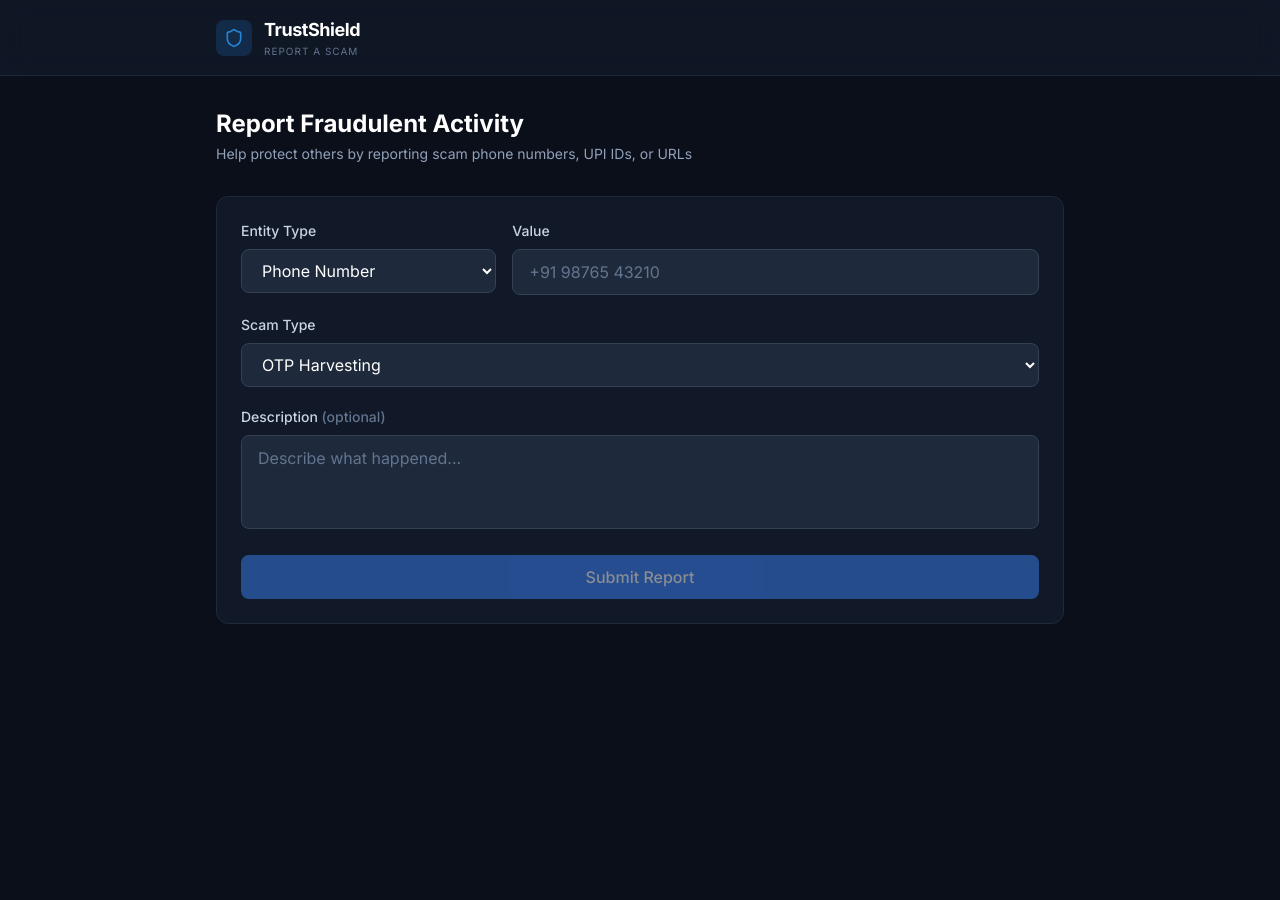
it: Report Page › shows rate limit message on 429 error
Type "1234567890" into the field with placeholder "+91 98765 43210" at (776, 272), box [512, 249, 1039, 295]
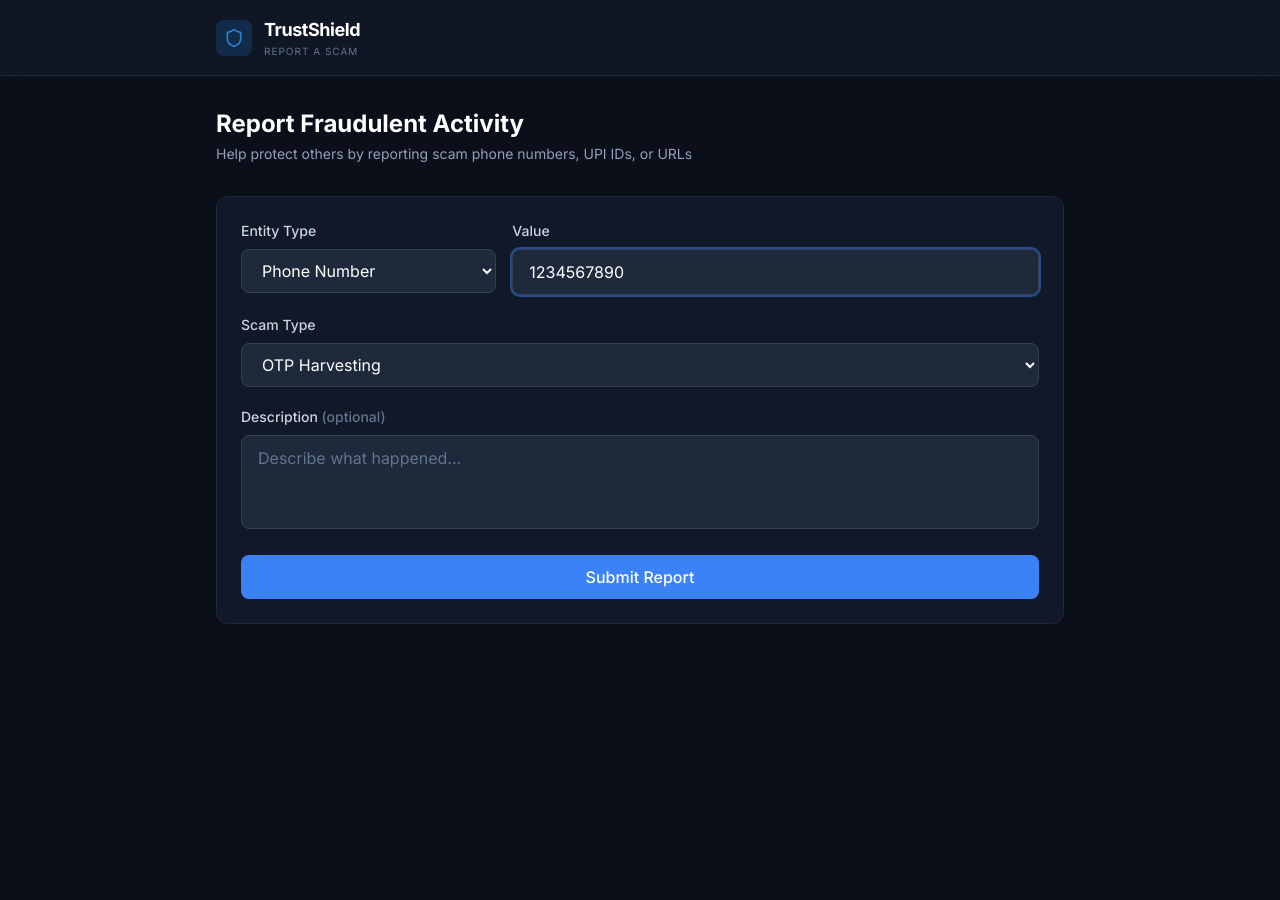
Click the button "Submit Report" at (640, 577), box [241, 555, 1039, 599]
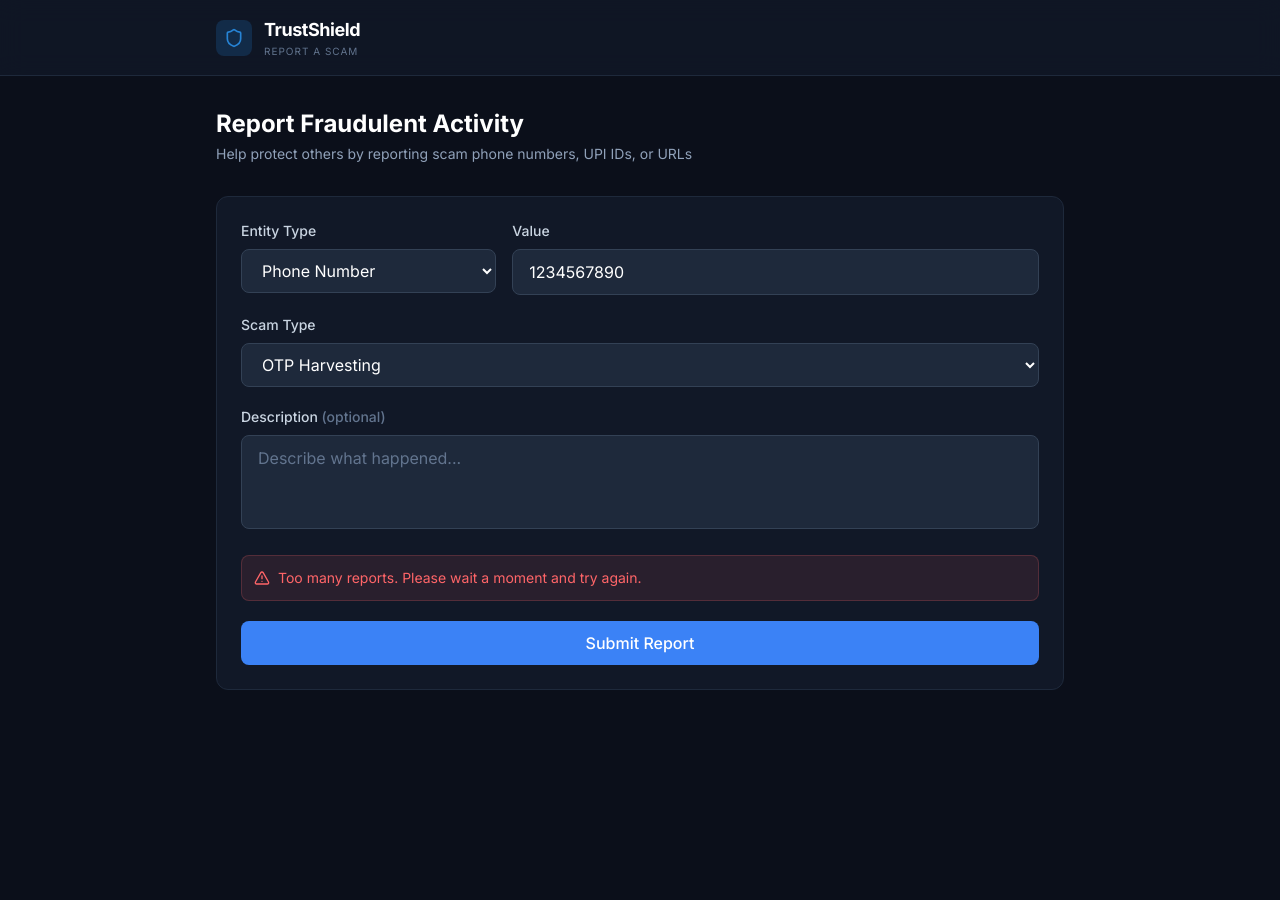
Check: the text "Too many reports. Please wait a moment and try again." is shown, box [278, 568, 642, 588]
